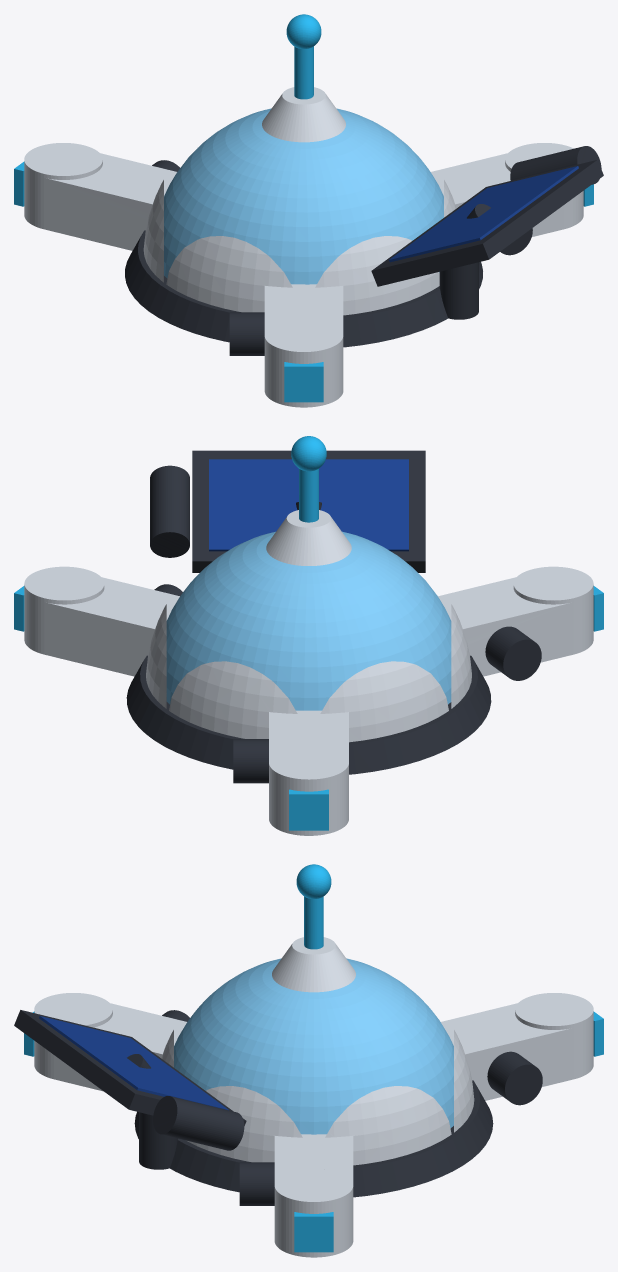
File: colony.obj
3 views of the same model, one above another, from view 1: azimuth 30°, elevation 25°; view 2: azimuth 150°, elevation 25°; view 3: azimuth 270°, elevation 25° (orthographic).
Visible parts, largest first — view 1: colony; view 2: colony; view 3: colony.
Part boxes in pixels (x1=…): colony: x1=14, y1=14, x2=603, y2=407; colony: x1=14, y1=436, x2=603, y2=835; colony: x1=14, y1=864, x2=603, y2=1257.
Bounding box in the file's own units: 23 × 13 × 26.99.
